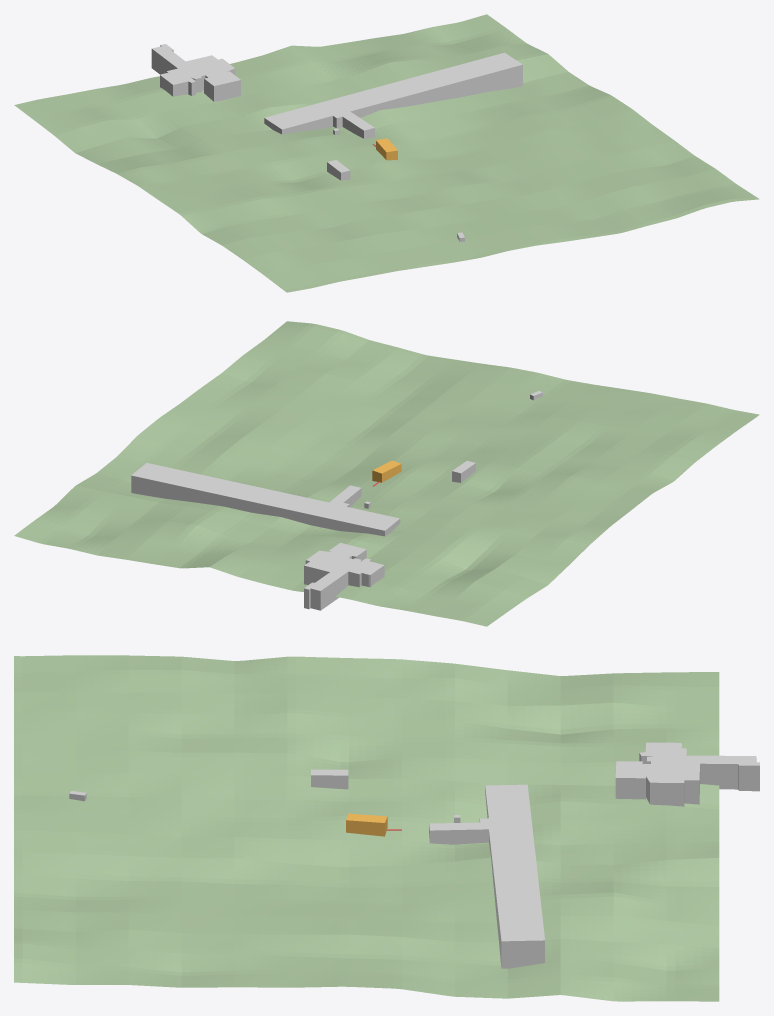
Rendered from a1_ref.glb.
The picture shows the model from 3 angles, top to bottom: view 1: azimuth 30°, elevation 25°; view 2: azimuth 150°, elevation 25°; view 3: azimuth 270°, elevation 25°; orthographic projection. The views are drawn at different scales.
Parts seen in each view (by area): view 1: ARAZI, KOMSU_BINALAR; view 2: ARAZI, KOMSU_BINALAR; view 3: ARAZI, KOMSU_BINALAR, HEDEF_0_way_380300013.
Boxes of the visible parts, x1,y1,x2,y2 form: ARAZI: (14, 14, 759, 292); KOMSU_BINALAR: (151, 44, 522, 241); ARAZI: (14, 321, 759, 626); KOMSU_BINALAR: (131, 391, 542, 610); ARAZI: (14, 655, 719, 1001); KOMSU_BINALAR: (69, 742, 759, 968); HEDEF_0_way_380300013: (346, 813, 387, 836).
Bounding box in the file's own units: 400 × 32.01 × 423.
